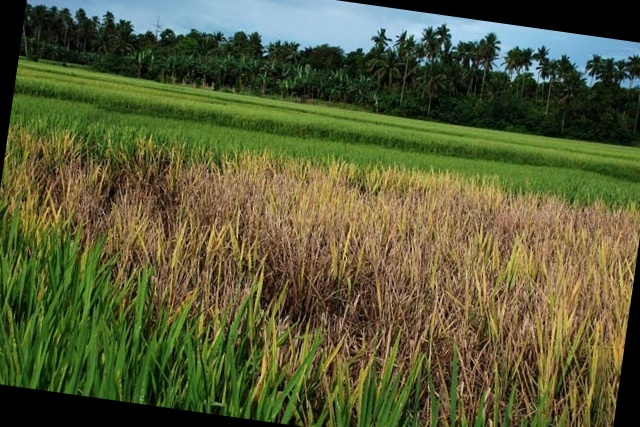Hopper_burn: (21, 138, 637, 356)
